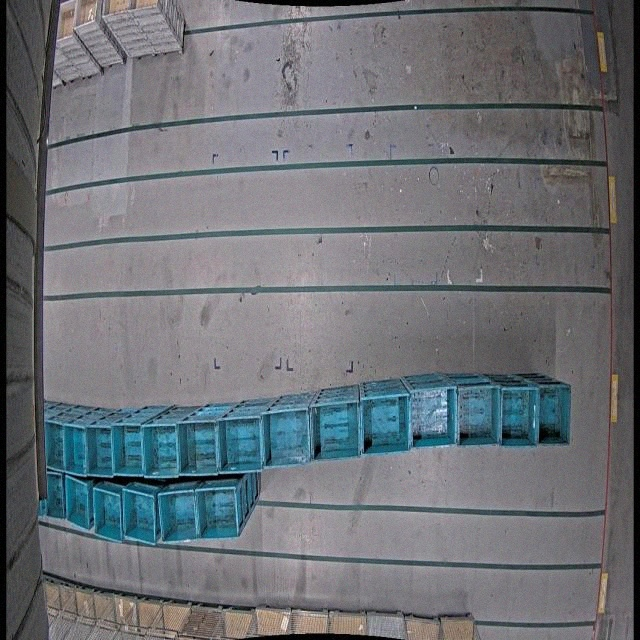Box: (262, 403, 314, 468), (361, 389, 411, 454), (313, 396, 362, 461), (196, 478, 244, 542), (219, 409, 265, 473), (456, 380, 501, 445), (410, 385, 454, 446), (181, 416, 220, 478), (141, 419, 181, 479), (498, 384, 536, 446), (535, 382, 571, 445), (90, 482, 125, 541), (122, 489, 155, 550), (159, 490, 195, 545), (86, 421, 115, 477), (113, 423, 143, 477), (40, 470, 70, 524), (66, 475, 88, 532), (44, 420, 66, 474), (64, 425, 86, 475), (56, 0, 77, 42), (73, 0, 98, 30), (102, 0, 130, 17)
